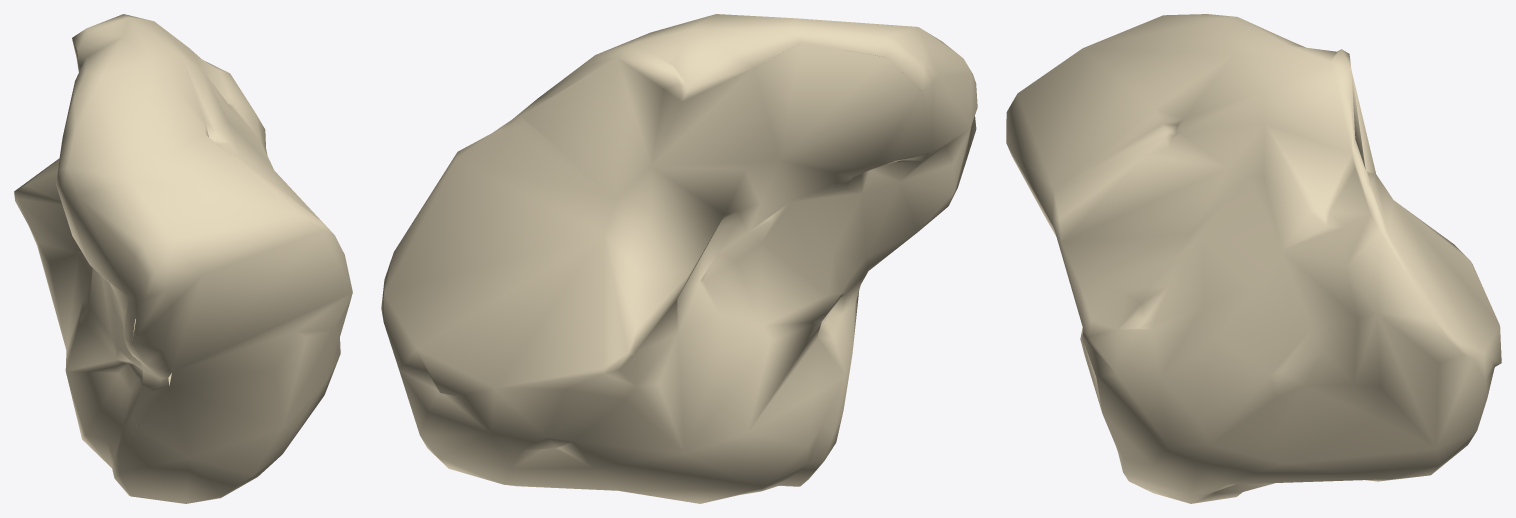
File: esqueleto-medial-cuneiform-bone-r.glb
3 renders of one model, left to right at view 1: azimuth 30°, elevation 25°; view 2: azimuth 150°, elevation 25°; view 3: azimuth 270°, elevation 25°, orthographic. The views are drawn at different scales.
Parts seen in each view (by area): view 1: Medial cuneiform bone.r; view 2: Medial cuneiform bone.r; view 3: Medial cuneiform bone.r.
Boxes of the visible parts, <box> form: Medial cuneiform bone.r: <box>14,14,352,503</box>; Medial cuneiform bone.r: <box>381,14,977,503</box>; Medial cuneiform bone.r: <box>1006,14,1501,503</box>.
Size of the model in its own units: 0.0251 by 0.0323 by 0.033.
